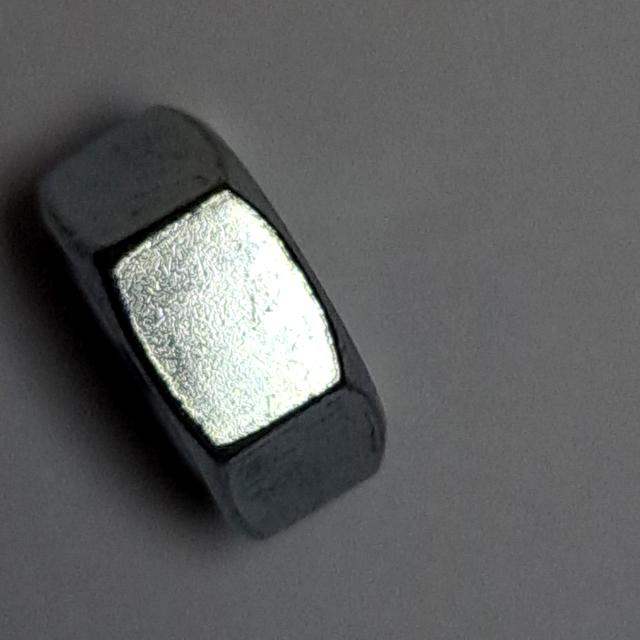Side_Excellent: (25, 96, 402, 547)
